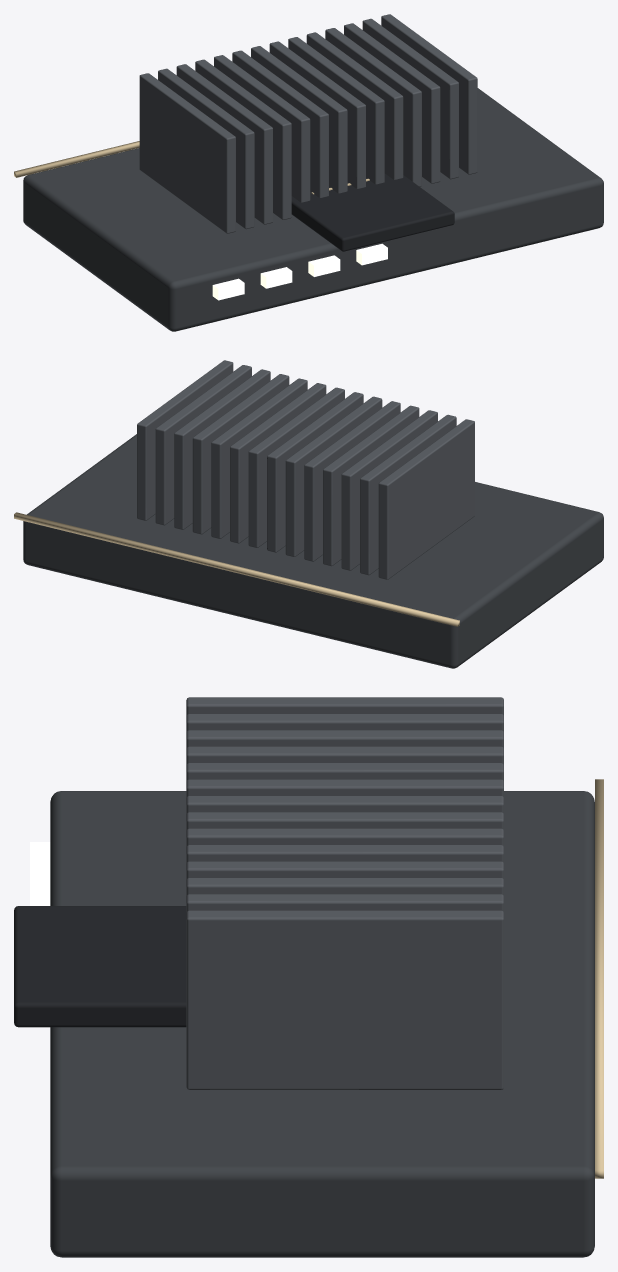
The model's file is compute-module.glb.
The picture shows the model from 3 angles, top to bottom: view 1: azimuth 30°, elevation 25°; view 2: azimuth 150°, elevation 25°; view 3: azimuth 270°, elevation 25°; orthographic projection. The views are drawn at different scales.
Parts seen in each view (by area): view 1: Fin, Chassis, Processor, Rail, Port.002, Port.001, Port, Port.003; view 2: Fin, Chassis, Rail; view 3: Chassis, Fin, Processor, Rail, Port.
Part boxes in pixels (box(x1,y1,x2,y2)): Fin: box(139, 14, 477, 233); Chassis: box(23, 88, 603, 331); Processor: box(291, 173, 454, 251); Rail: box(14, 141, 139, 177); Port.002: box(308, 255, 340, 276); Port.001: box(260, 267, 292, 288); Port: box(212, 278, 244, 300); Port.003: box(356, 243, 387, 265); Fin: box(137, 360, 474, 579); Chassis: box(23, 434, 603, 668); Rail: box(14, 512, 459, 626); Chassis: box(50, 791, 594, 1257); Fin: box(186, 697, 503, 1089); Processor: box(14, 906, 186, 1027); Rail: box(595, 779, 603, 1178); Port: box(30, 842, 50, 884).
Size of the model in its own units: 2.04 by 0.64 by 1.3.
